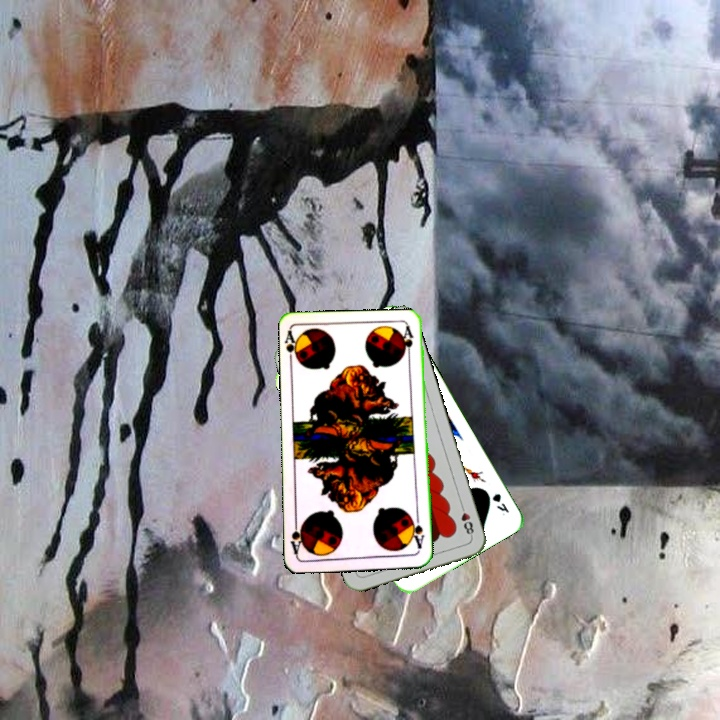GK: (488, 489, 512, 518)
H8: (456, 500, 476, 540)
SA: (282, 327, 303, 368), (407, 513, 427, 553)
